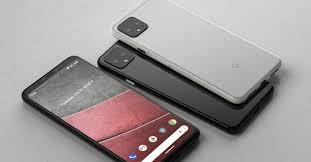Smartphone: (15, 64, 199, 162), (117, 1, 267, 88), (106, 44, 275, 113)
